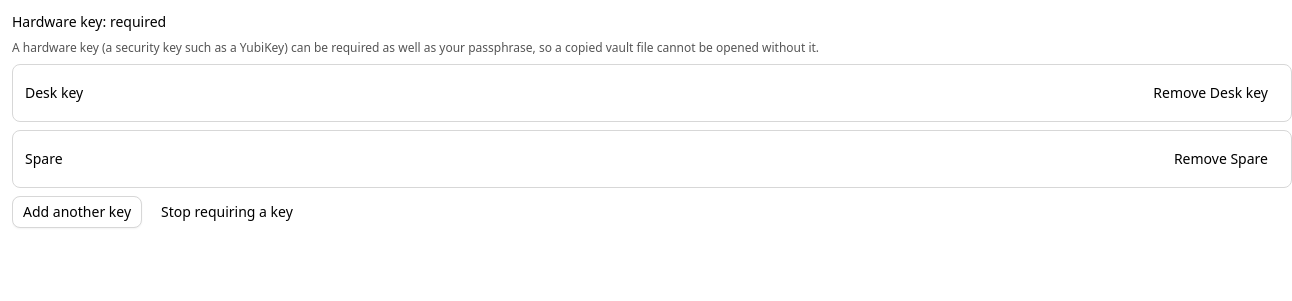
Test: HardwareKeySetting removing and stopping › backs out of a removal on Escape without removing
The image size is (1292, 301).
Click the button "Remove Spare" at (1221, 159), box [1163,143,1279,175]
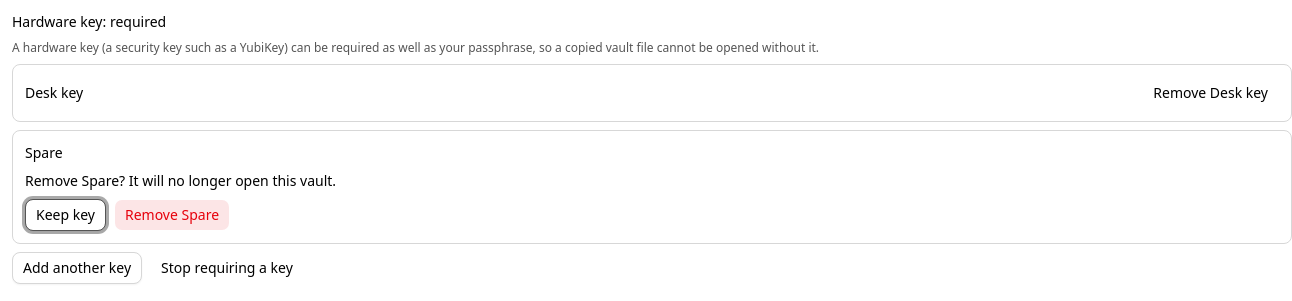
Press Escape in the button "Keep key", box [25,199,106,231]
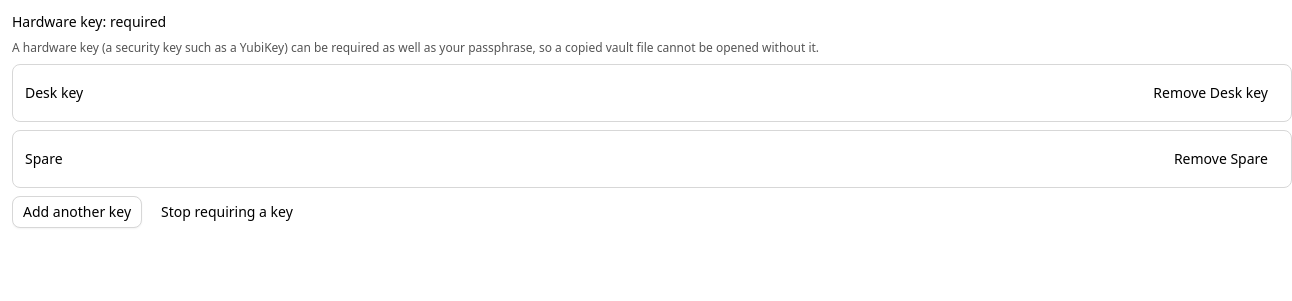
Expected: the text "It will no longer open this vault" is gone
